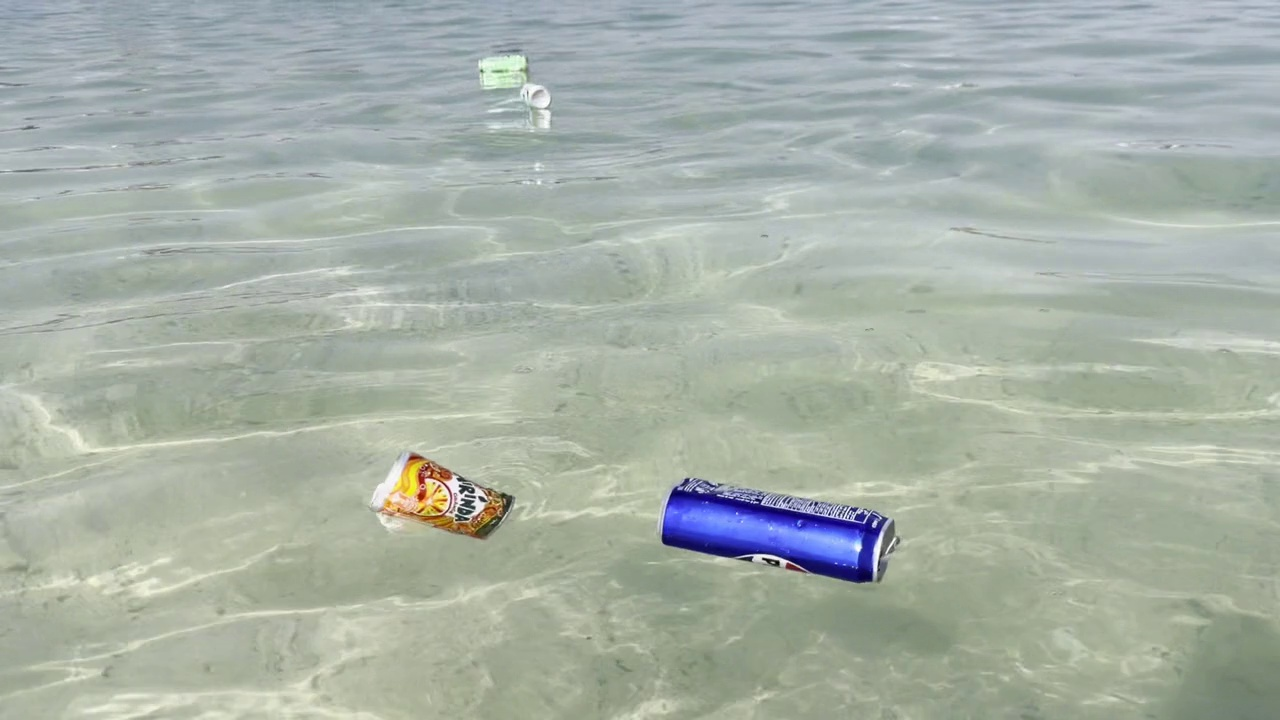debris: (646, 457, 904, 593), (354, 441, 517, 546), (473, 48, 529, 80), (518, 75, 555, 113)
